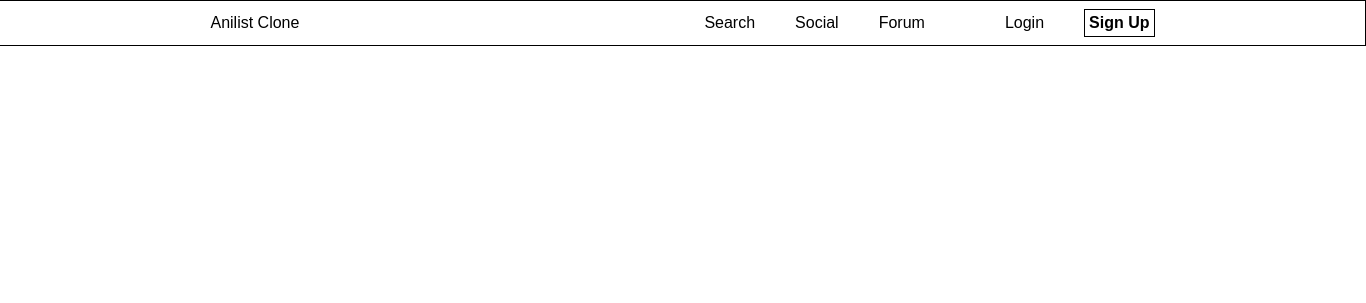
Test: navbar › search hover
Hover over the link "Search" at [730, 22], box 704,14 -> 755,31
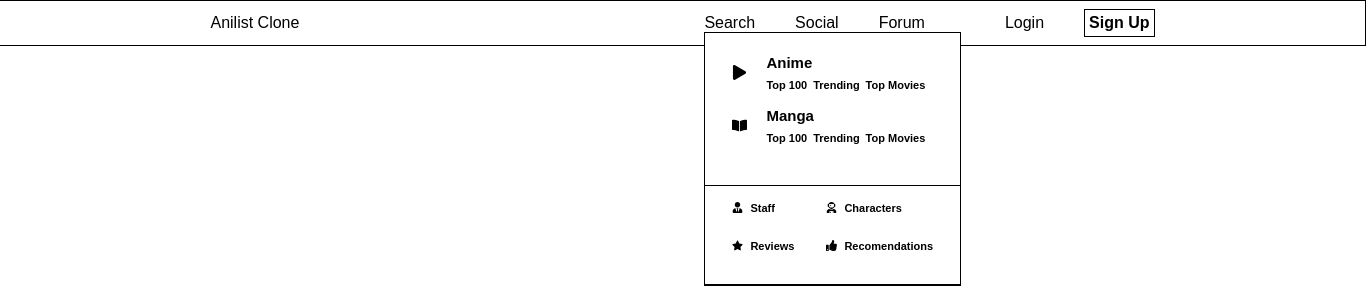
Result: the link "Anime" is shown at 766,54 -> 812,71
Result: the link "Manga" is shown at 766,107 -> 814,124
Result: the link "Staff" is shown at 732,202 -> 775,214
